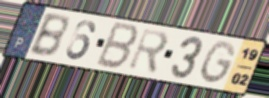3: (169, 35, 204, 80)
6: (65, 20, 97, 61)
B: (92, 20, 142, 72), (26, 13, 69, 59)
G: (199, 39, 238, 86)
R: (125, 27, 170, 77)
